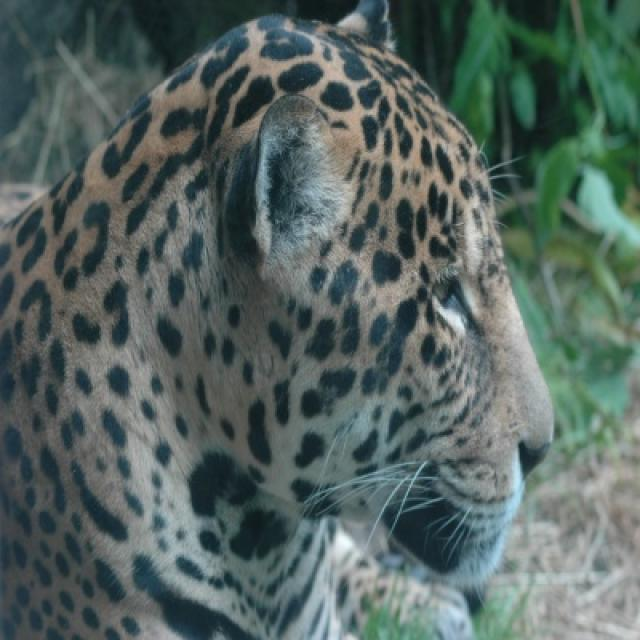Jaguar: (0, 14, 555, 638)
